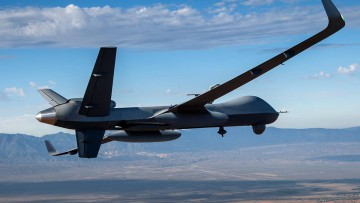maybay_khongnguoilai: (21, 4, 346, 148)
